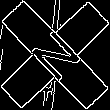N_SE: (23, 23, 87, 87)
